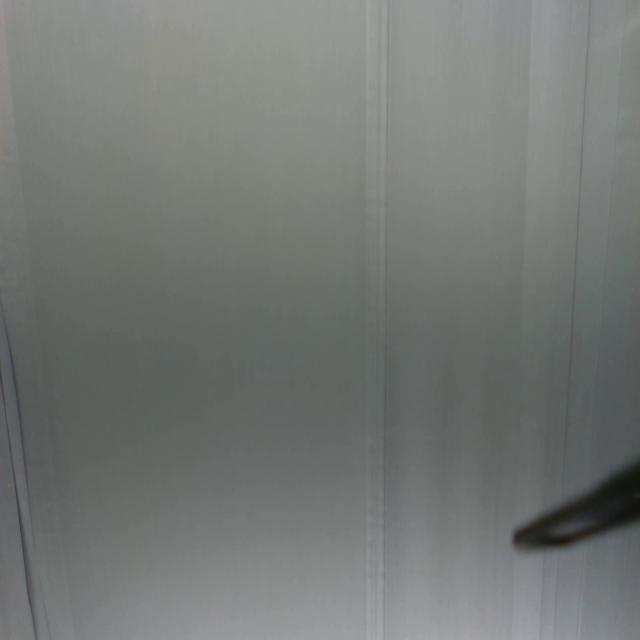crease: (0, 294, 52, 638), (560, 0, 595, 482), (368, 0, 393, 639)
